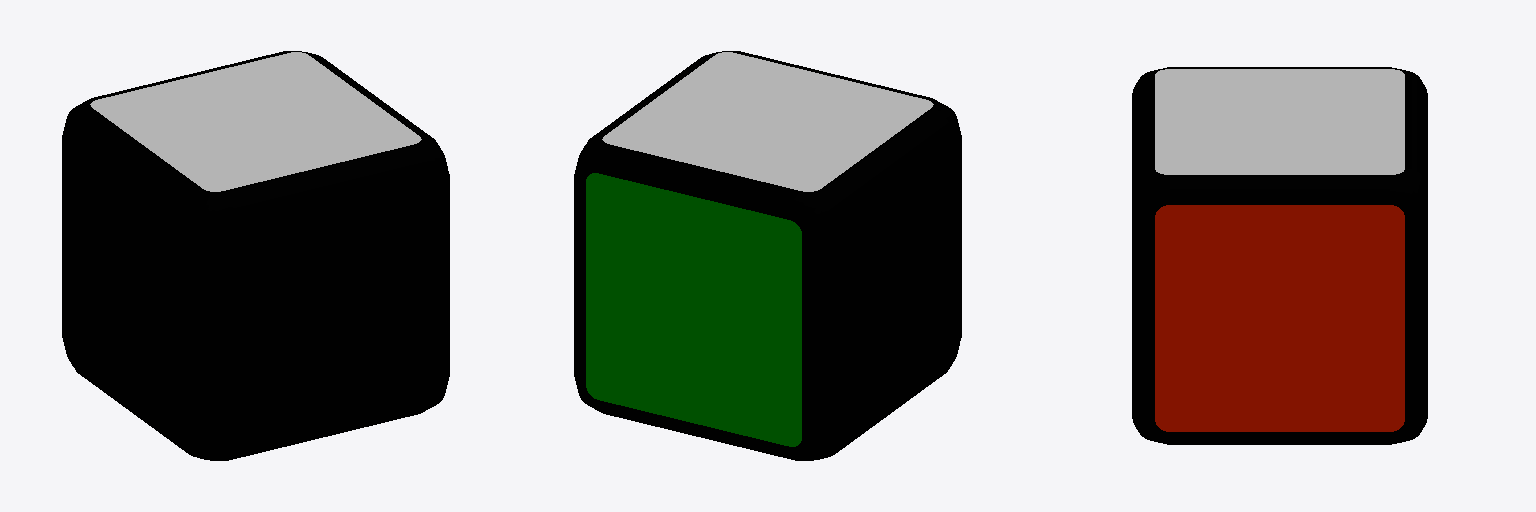
Rendered from corner_gow.obj.
The picture shows the model from 3 angles: view 1: azimuth 30°, elevation 25°; view 2: azimuth 150°, elevation 25°; view 3: azimuth 270°, elevation 25°; orthographic projection.
Visible parts, largest first — view 1: Cube; view 2: Cube; view 3: Cube.
Boxes of the visible parts, x1,y1,x2,y2 form: Cube: [62, 51, 449, 460]; Cube: [574, 51, 961, 460]; Cube: [1132, 67, 1427, 444].
Size of the model in its own units: 2 by 2 by 2.